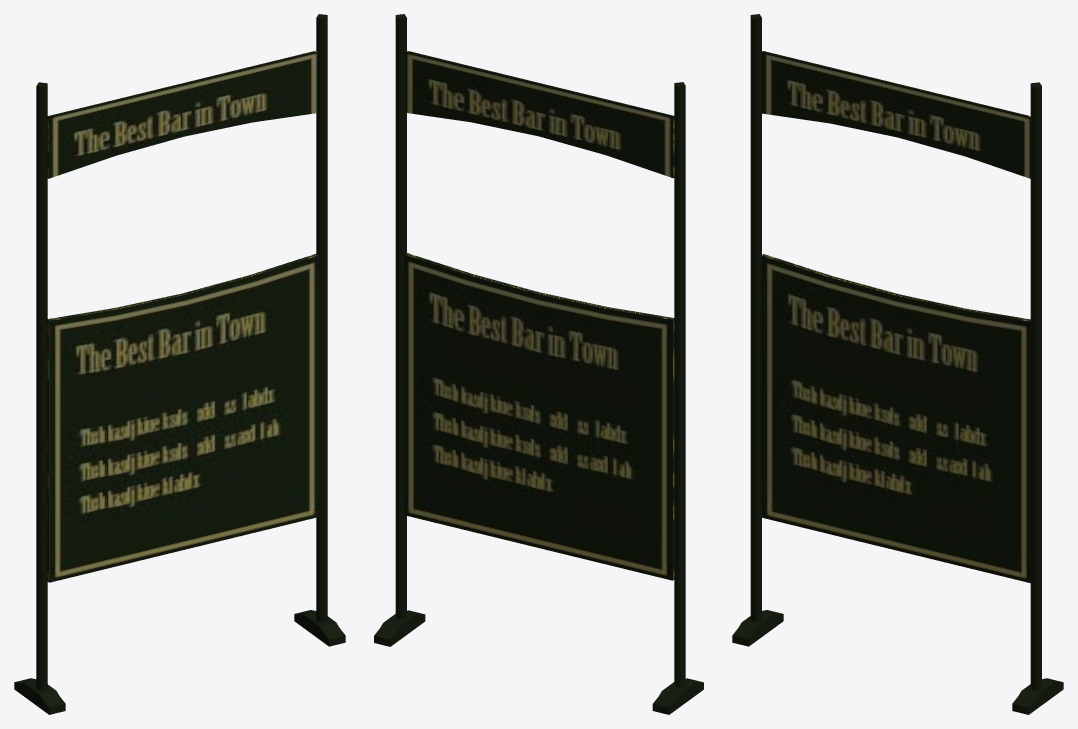
File: CounterSignBoard.FBX
3 renders of one model, left to right at view 1: azimuth 30°, elevation 25°; view 2: azimuth 150°, elevation 25°; view 3: azimuth 330°, elevation 25°, orthographic.
Visible parts, largest first — view 1: Box039; view 2: Box039; view 3: Box039.
Part boxes in pixels (x1,y1,x2,y2): Box039: (14,14,345,714); Box039: (374,14,703,714); Box039: (732,14,1063,714).
Bounding box in the file's own units: 7.96 × 15.83 × 1.62.
Materials: 1 (1 with a texture image).
